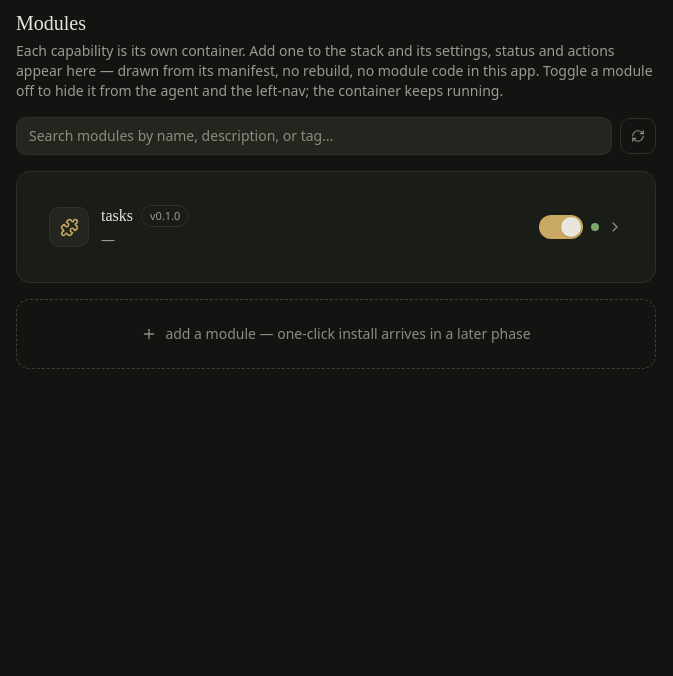
Test: ModulesScreen per-module provider removal (#764) › round-trips: stop, collapse, use again, expanded with the toggles back on
The image size is (673, 676).
Click the button named "expand". click: (615, 227)
box: [607,219,623,235]
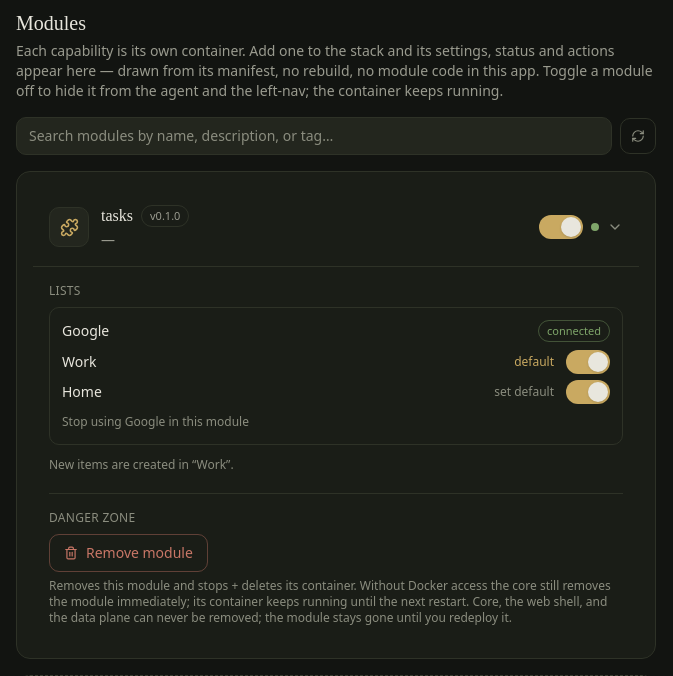
Click the button "Stop using Google in this module". click: (156, 422)
box: [62,414,249,430]
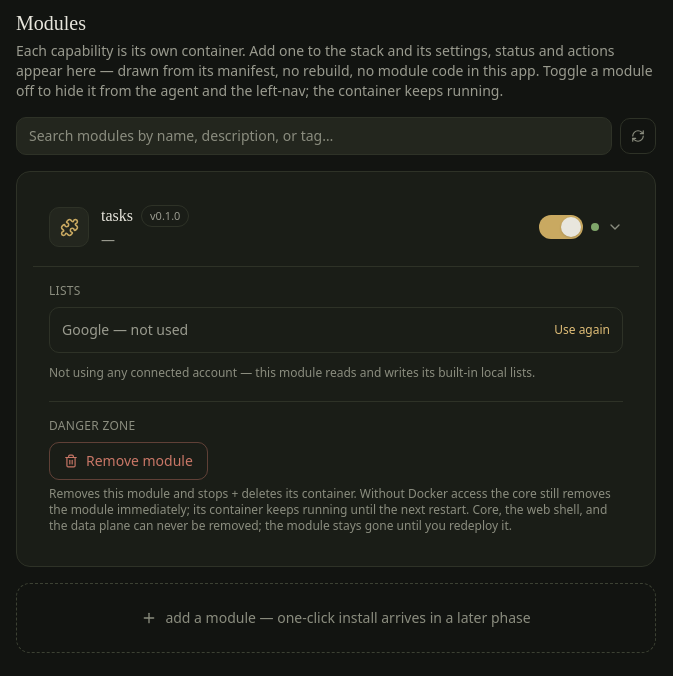
Expected: the text "Google — not used" is shown, [62,320,188,339]
Click the button "Use again". click: (582, 330)
box: [554,322,610,338]
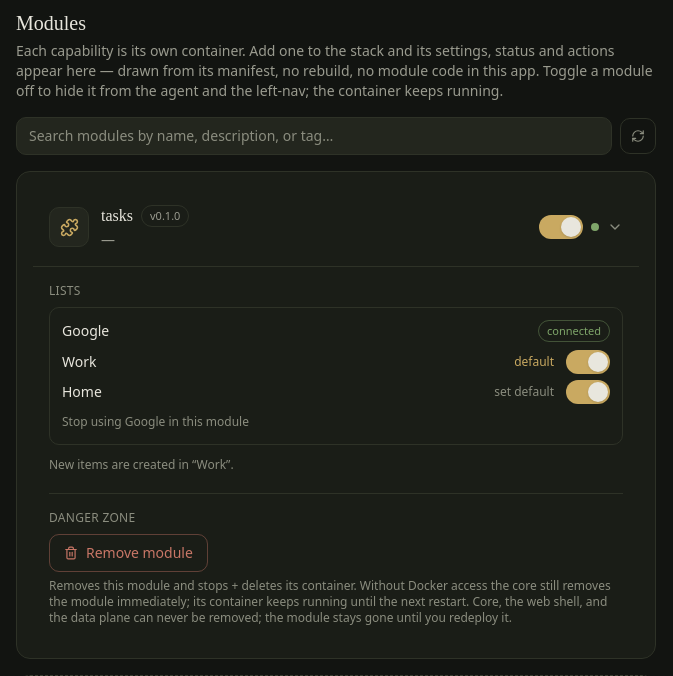
Expected: the switch named "Toggle Work" is shown, [566,350,610,374]
Expected: the text "Google — not used" is gone
